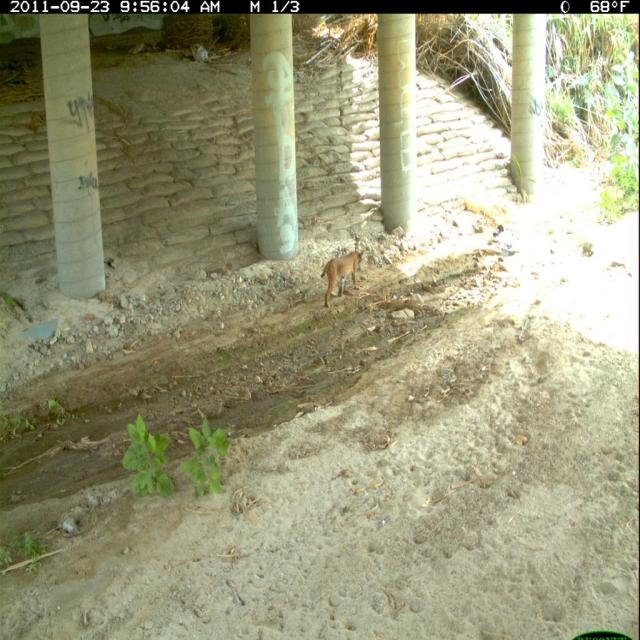bobcat: (319, 244, 368, 312)
